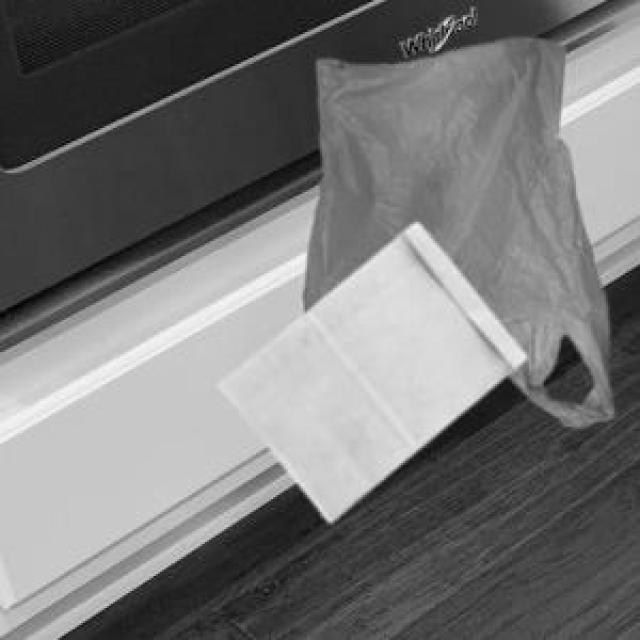paper: (216, 220, 521, 516)
